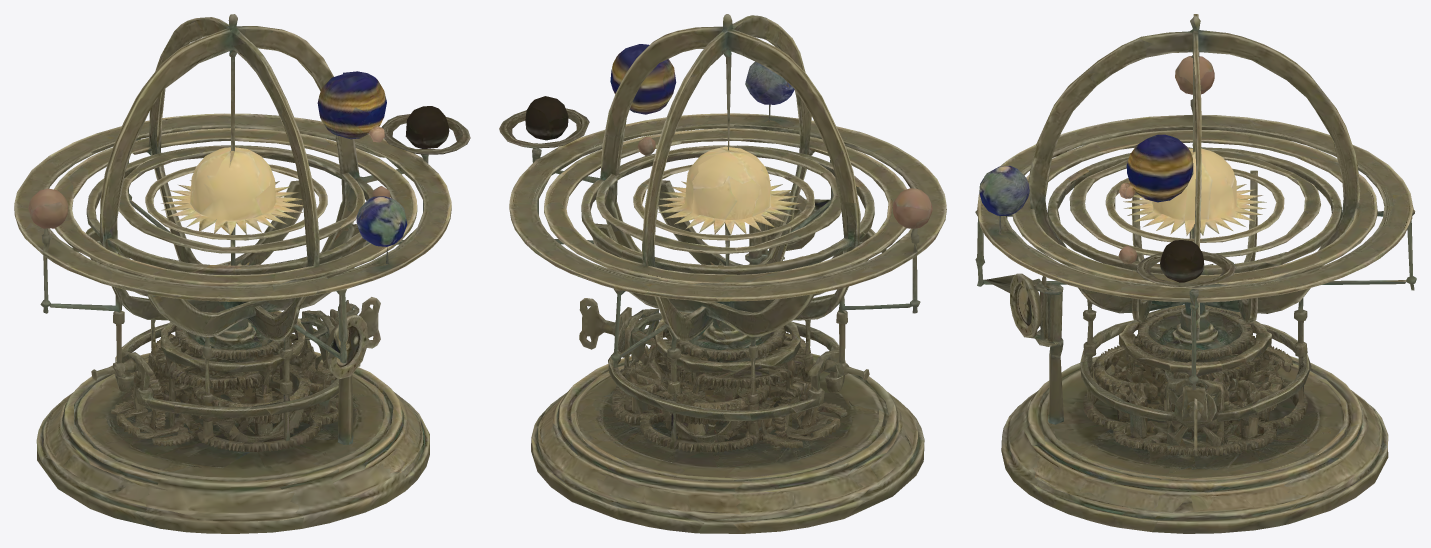
The model's file is orrery.glb.
3 renders of one model, left to right at view 1: azimuth 30°, elevation 25°; view 2: azimuth 150°, elevation 25°; view 3: azimuth 270°, elevation 25°, orthographic.
Visible parts, largest first — view 1: Mesh_0; view 2: Mesh_0; view 3: Mesh_0.
Part boxes in pixels (left/top/right/bottom): Mesh_0: left=14, top=14, right=470, bottom=533; Mesh_0: left=499, top=14, right=946, bottom=533; Mesh_0: left=975, top=14, right=1416, bottom=533.
Size of the model in its own units: 1.89 by 1.86 by 1.71.
1 material, 1 textured.
